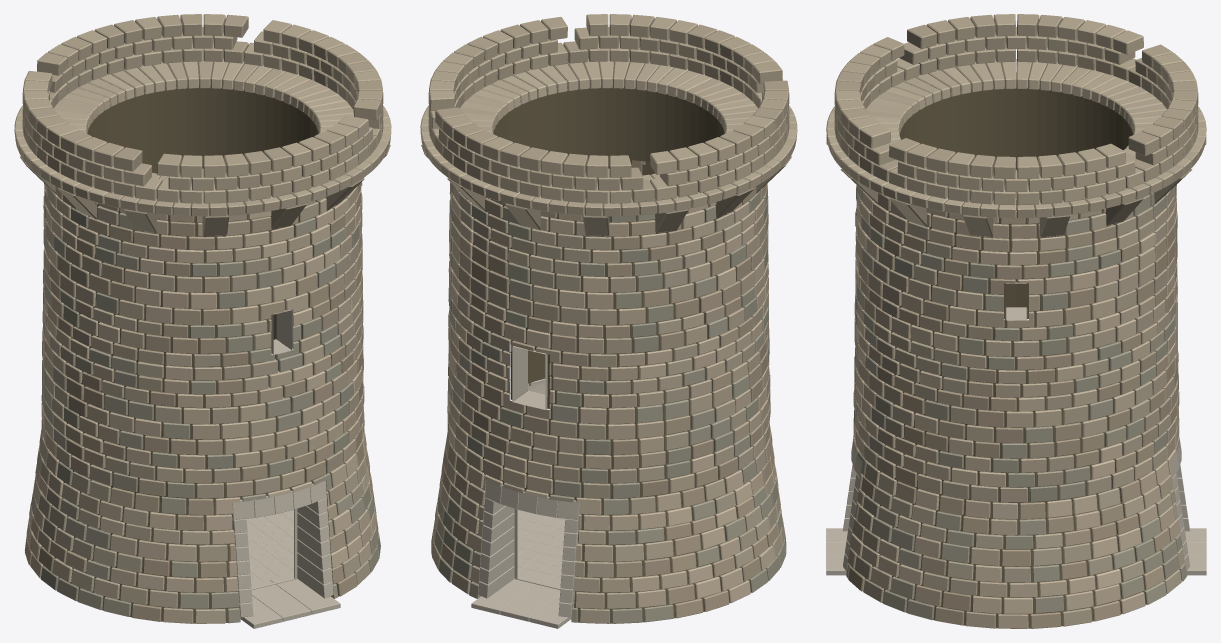
The model's file is Tour_V6_LOD0.fbx.
The picture shows the model from 3 angles, left to right: view 1: azimuth 30°, elevation 25°; view 2: azimuth 150°, elevation 25°; view 3: azimuth 270°, elevation 25°; orthographic projection.
Visible parts, largest first — view 1: V6_Fut_Granit_Exterieur, V6_Couronnement_Consoles, V6_Chaux_Coeur_Murs, V6_Embrasures_Linteaux_Seuils, V6_Dalles_Patine, V6_Embrasures_Fenetres_Traversantes; view 2: V6_Fut_Granit_Exterieur, V6_Couronnement_Consoles, V6_Chaux_Coeur_Murs, V6_Embrasures_Linteaux_Seuils, V6_Dalles_Patine, V6_Embrasures_Fenetres_Traversantes; view 3: V6_Fut_Granit_Exterieur, V6_Couronnement_Consoles, V6_Chaux_Coeur_Murs, V6_Embrasures_Linteaux_Seuils, V6_Embrasures_Fenetres_Traversantes.
Boxes of the visible parts, x1=… form: V6_Fut_Granit_Exterieur: x1=24, y1=182, x2=380, y2=623; V6_Couronnement_Consoles: x1=14, y1=14, x2=391, y2=237; V6_Chaux_Coeur_Murs: x1=41, y1=84, x2=357, y2=623; V6_Embrasures_Linteaux_Seuils: x1=231, y1=480, x2=340, y2=628; V6_Dalles_Patine: x1=246, y1=510, x2=293, y2=584; V6_Embrasures_Fenetres_Traversantes: x1=271, y1=309, x2=292, y2=354; V6_Fut_Granit_Exterieur: x1=431, y1=161, x2=786, y2=623; V6_Couronnement_Consoles: x1=420, y1=14, x2=797, y2=237; V6_Chaux_Coeur_Murs: x1=455, y1=84, x2=765, y2=623; V6_Embrasures_Linteaux_Seuils: x1=471, y1=480, x2=579, y2=628; V6_Dalles_Patine: x1=518, y1=510, x2=565, y2=584; V6_Embrasures_Fenetres_Traversantes: x1=512, y1=346, x2=547, y2=409; V6_Fut_Granit_Exterieur: x1=846, y1=184, x2=1187, y2=628; V6_Couronnement_Consoles: x1=826, y1=14, x2=1206, y2=238; V6_Chaux_Coeur_Murs: x1=863, y1=72, x2=1174, y2=628; V6_Embrasures_Linteaux_Seuils: x1=826, y1=439, x2=1206, y2=575; V6_Embrasures_Fenetres_Traversantes: x1=855, y1=251, x2=1177, y2=358.
Bounding box in the file's own units: 900 × 1210 × 900.
